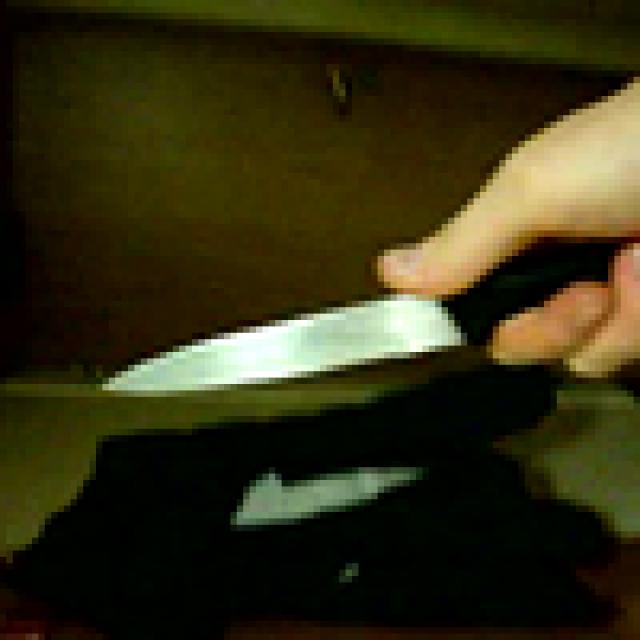Knife: (102, 224, 640, 403)
